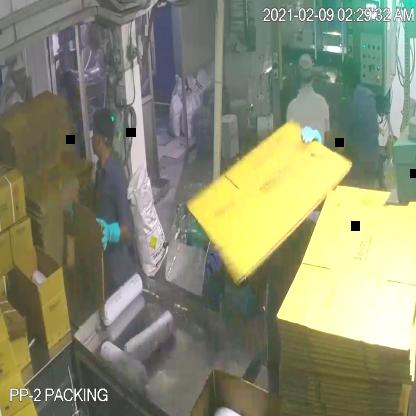glove: (88, 218, 127, 252), (298, 122, 322, 152)
